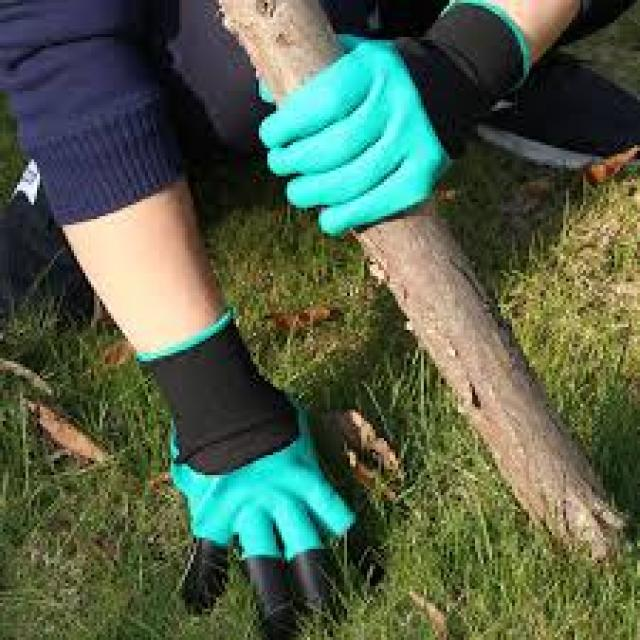Gloves: (139, 310, 356, 639), (259, 1, 528, 234)
